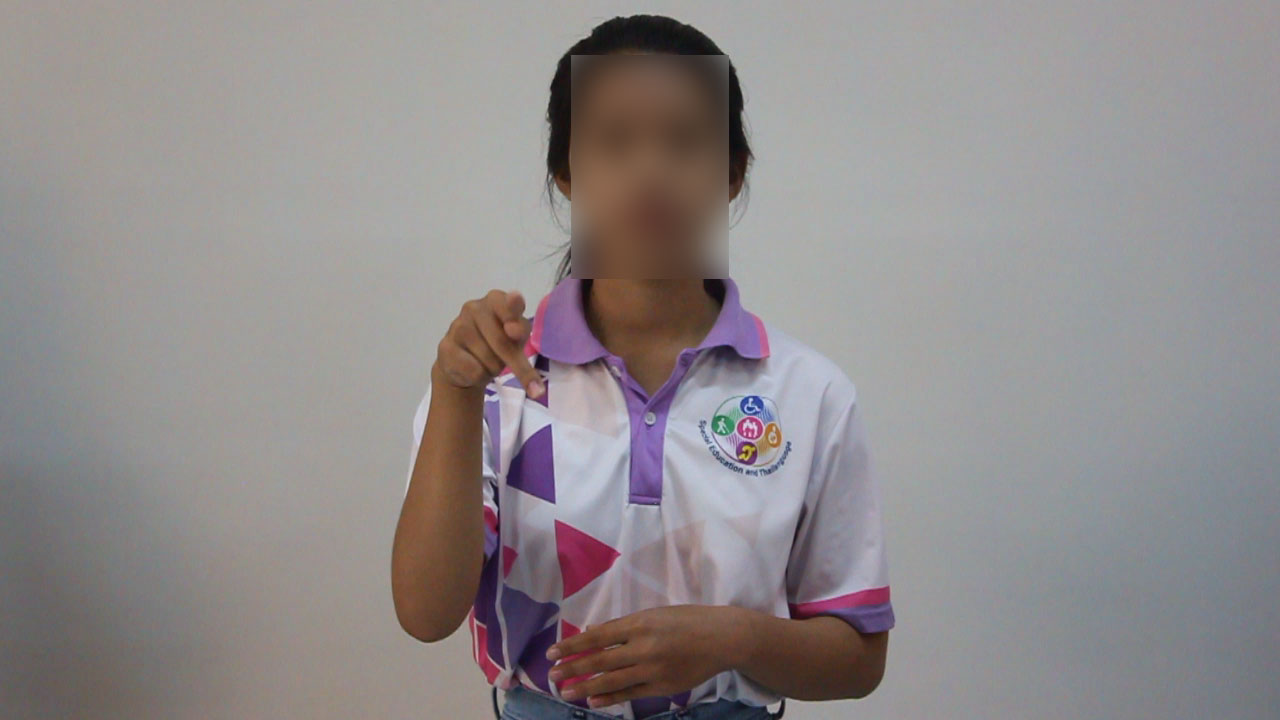por: (416, 265, 553, 428)
